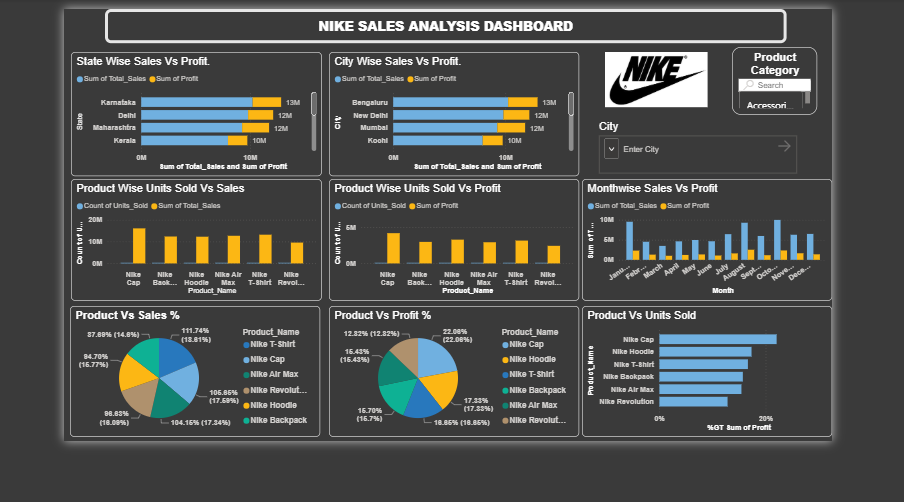

Layout of this report page (visuals, bound fields, positions):
{"tool":"powerbi","page":{"name":"Page 1","canvas":[1280,720],"ordinal":0},"visuals":[{"type":"textbox","box":[68.9,0,1135.5,57],"z":0},{"type":"barChart","title":"State Wise Sales Vs Profit.","fields":{"Category":["Nike_Sales_Dataset_PowerBI-csv.State"],"Y":["Sum(Nike_Sales_Dataset_PowerBI-csv.Total_Sales)","Sum(Nike_Sales_Dataset_PowerBI-csv.Profit)"]},"box":[11.3,70.9,418.2,207],"z":1000},{"type":"barChart","title":"City Wise Sales Vs Profit.","fields":{"Category":["Nike_Sales_Dataset_PowerBI-csv.City"],"Y":["Sum(Nike_Sales_Dataset_PowerBI-csv.Total_Sales)","Sum(Nike_Sales_Dataset_PowerBI-csv.Profit)"]},"box":[440.8,70.9,416.7,207],"z":2000},{"type":"clusteredColumnChart","title":"Product Wise Units Sold Vs Sales","fields":{"Category":["Nike_Sales_Dataset_PowerBI-csv.Product_Name"],"Y":["CountNonNull(Nike_Sales_Dataset_PowerBI-csv.Units_Sold)","Sum(Nike_Sales_Dataset_PowerBI-csv.Total_Sales)"]},"box":[11.3,283.5,418.2,202.7],"z":3000},{"type":"clusteredColumnChart","title":"Product Wise Units Sold Vs Profit","fields":{"Category":["Nike_Sales_Dataset_PowerBI-csv.Product_Name"],"Y":["CountNonNull(Nike_Sales_Dataset_PowerBI-csv.Units_Sold)","Sum(Nike_Sales_Dataset_PowerBI-csv.Profit)"]},"box":[440.8,283.5,416.7,202.7],"z":4000},{"type":"clusteredColumnChart","title":"Monthwise Sales Vs Profit ","fields":{"Y":["Sum(Nike_Sales_Dataset_PowerBI-csv.Total_Sales)","Sum(Nike_Sales_Dataset_PowerBI-csv.Profit)"],"Category":["Nike_Sales_Dataset_PowerBI-csv.Date.Variation.Date Hierarchy.Month"]},"box":[863.3,283.5,416.7,202.7],"z":5000},{"type":"pieChart","title":"Product Vs Sales %","fields":{"Y":["Sum(Nike_Sales_Dataset_PowerBI-csv.Total_Sales)"],"Category":["Nike_Sales_Dataset_PowerBI-csv.Product_Name"]},"box":[9.9,494.7,416.7,218.3],"z":6000},{"type":"pieChart","title":"Product Vs Profit %","fields":{"Category":["Nike_Sales_Dataset_PowerBI-csv.Product_Name"],"Y":["Sum(Nike_Sales_Dataset_PowerBI-csv.Profit)"]},"box":[440.8,494.7,416.7,218.3],"z":7000},{"type":"barChart","title":"Product Vs Units Sold ","fields":{"Category":["Nike_Sales_Dataset_PowerBI-csv.Product_Name"],"Y":["Divide(Sum(Nike_Sales_Dataset_PowerBI-csv.Profit), ScopedEval(Sum(Nike_Sales_Dataset_PowerBI-csv.Profit), []))"]},"box":[863.3,494.7,416.7,218.3],"z":8000},{"type":"image","box":[812.2,70.9,351.5,92.1],"z":9000},{"type":"advancedSlicerVisual","title":"Product Category","fields":{"Values":["Nike_Sales_Dataset_PowerBI-csv.Product_Category"]},"box":[1114.2,63.8,141.7,113.4],"z":10000},{"type":"textSlicer","fields":{"Values":["Nike_Sales_Dataset_PowerBI-csv.City"]},"box":[885.9,184.3,340.2,93.6],"z":11000}]}

Visuals, with their boxes in screenshot pixels (x1, y1, x2, y2), scaled from the page's 1280x720 canvas onto the 904x502 screenshot:
textbox: Rect(49, 0, 851, 40)
"State Wise Sales Vs Profit." barChart: Rect(8, 49, 303, 194)
"City Wise Sales Vs Profit." barChart: Rect(311, 49, 606, 194)
"Product Wise Units Sold Vs Sales" clusteredColumnChart: Rect(8, 198, 303, 339)
"Product Wise Units Sold Vs Profit" clusteredColumnChart: Rect(311, 198, 606, 339)
"Monthwise Sales Vs Profit " clusteredColumnChart: Rect(610, 198, 903, 339)
"Product Vs Sales %" pieChart: Rect(7, 345, 301, 497)
"Product Vs Profit %" pieChart: Rect(311, 345, 606, 497)
"Product Vs Units Sold " barChart: Rect(610, 345, 903, 497)
image: Rect(574, 49, 822, 114)
"Product Category" advancedSlicerVisual: Rect(787, 44, 887, 124)
textSlicer - Nike_Sales_Dataset_PowerBI-csv.City: Rect(626, 128, 866, 194)
